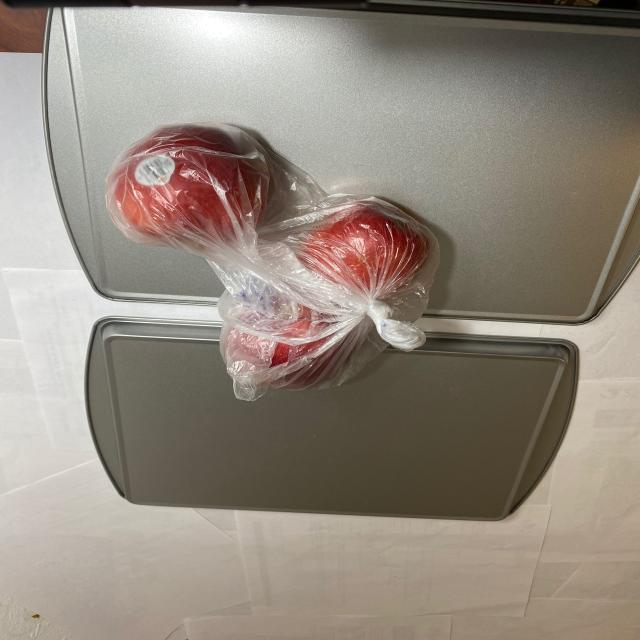apple: (108, 123, 434, 390)
